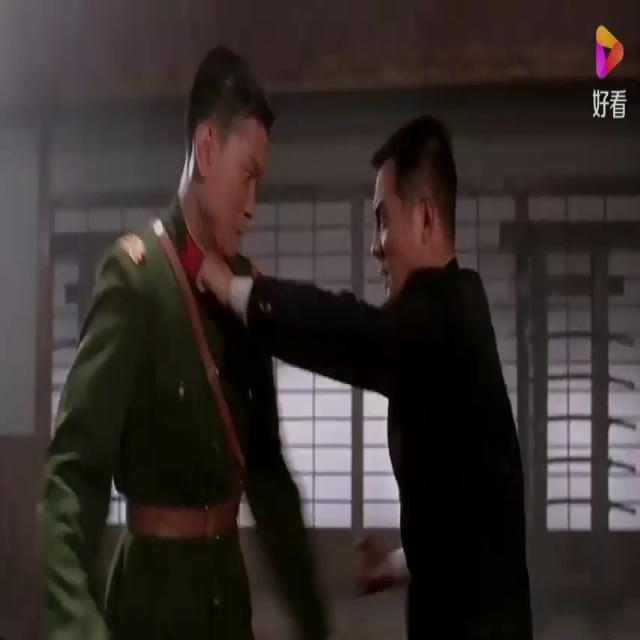fight: (34, 43, 545, 639)
